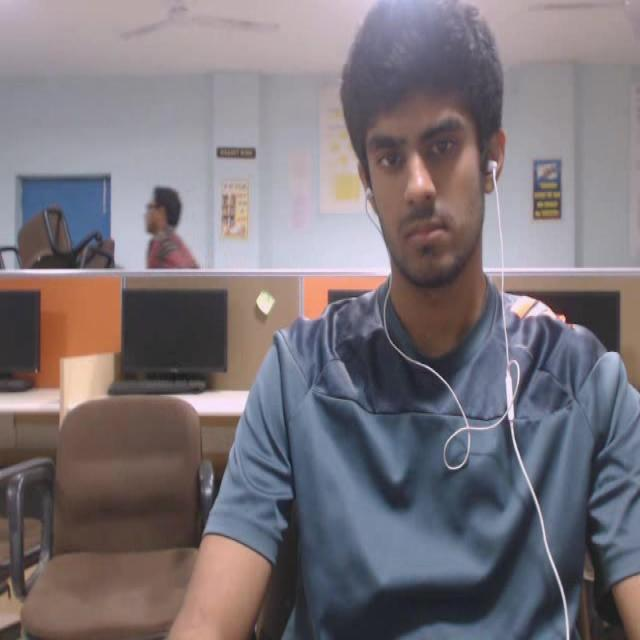Engaged: (321, 0, 542, 315)
